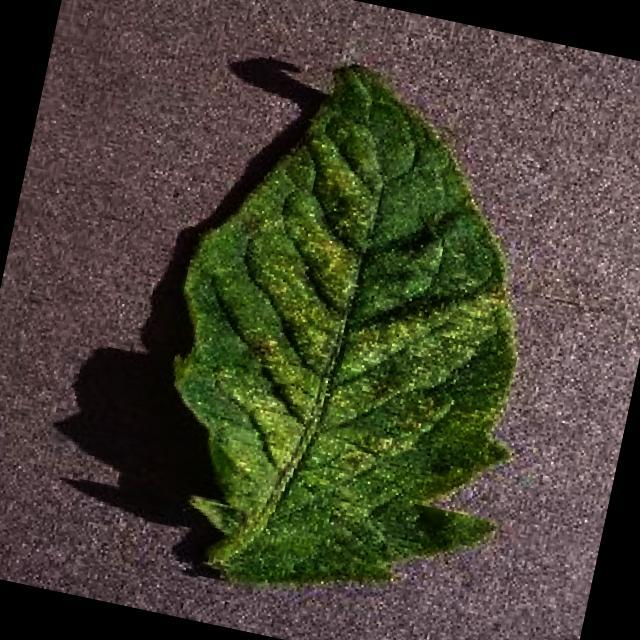Tomato spider mites leaf: (122, 37, 582, 634)
